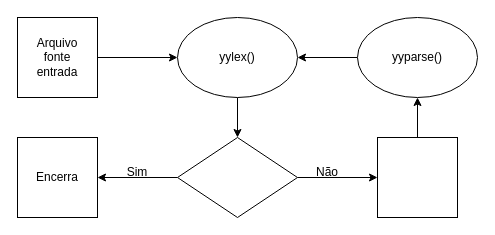
Some shapes in this 495 by 235 pixel diagram are drawn without their labels. The shapes that lost their labels are listed below. From the top down, each one's box as (x1, y1, x2, y2) in pixels, then its label:
(176, 136, 298, 218): Está no fim do arquivo?
(376, 136, 458, 218): Token
